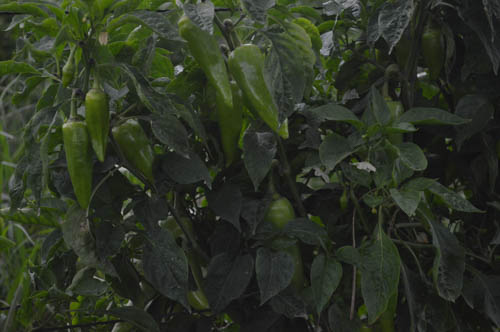ChiliPepper: (231, 44, 289, 135), (180, 20, 232, 104), (65, 125, 94, 208), (111, 121, 156, 174), (210, 86, 238, 160), (268, 200, 302, 259), (85, 90, 113, 160)
